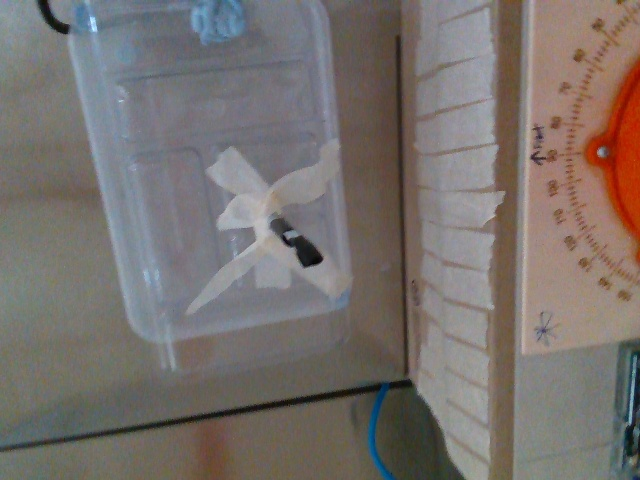test_strip: (283, 227, 323, 267)
